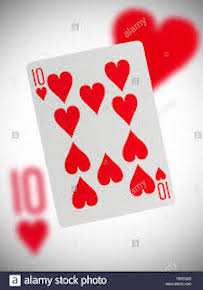TenOfHearts: (24, 37, 187, 230), (1, 156, 67, 255)
